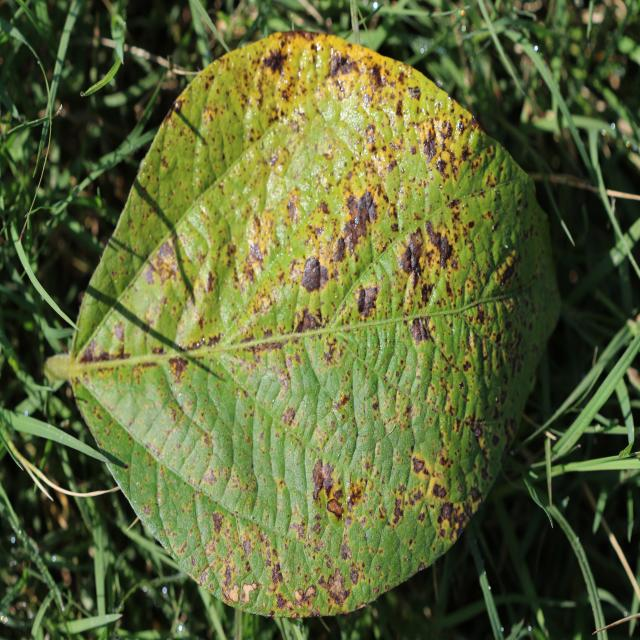Anthracnose: (334, 190, 375, 264), (395, 222, 437, 293), (295, 241, 330, 308), (319, 462, 356, 519), (143, 238, 181, 287), (80, 332, 122, 364), (42, 352, 71, 385), (224, 580, 257, 604), (356, 285, 379, 319), (326, 571, 349, 605), (496, 253, 518, 288), (330, 50, 354, 81), (262, 46, 286, 75), (294, 584, 317, 608), (167, 356, 188, 380), (409, 317, 429, 342), (422, 131, 438, 162), (311, 460, 324, 497), (286, 195, 300, 225), (247, 241, 264, 265), (391, 498, 404, 525), (288, 521, 305, 540), (411, 456, 427, 475), (431, 480, 447, 499), (281, 406, 296, 426), (333, 237, 345, 262), (440, 501, 453, 523), (469, 485, 483, 504), (204, 271, 215, 294), (203, 468, 217, 486), (271, 562, 283, 583), (212, 512, 223, 534), (241, 538, 253, 558), (340, 541, 352, 561), (458, 381, 464, 390)
Soybean: (45, 31, 559, 618)
